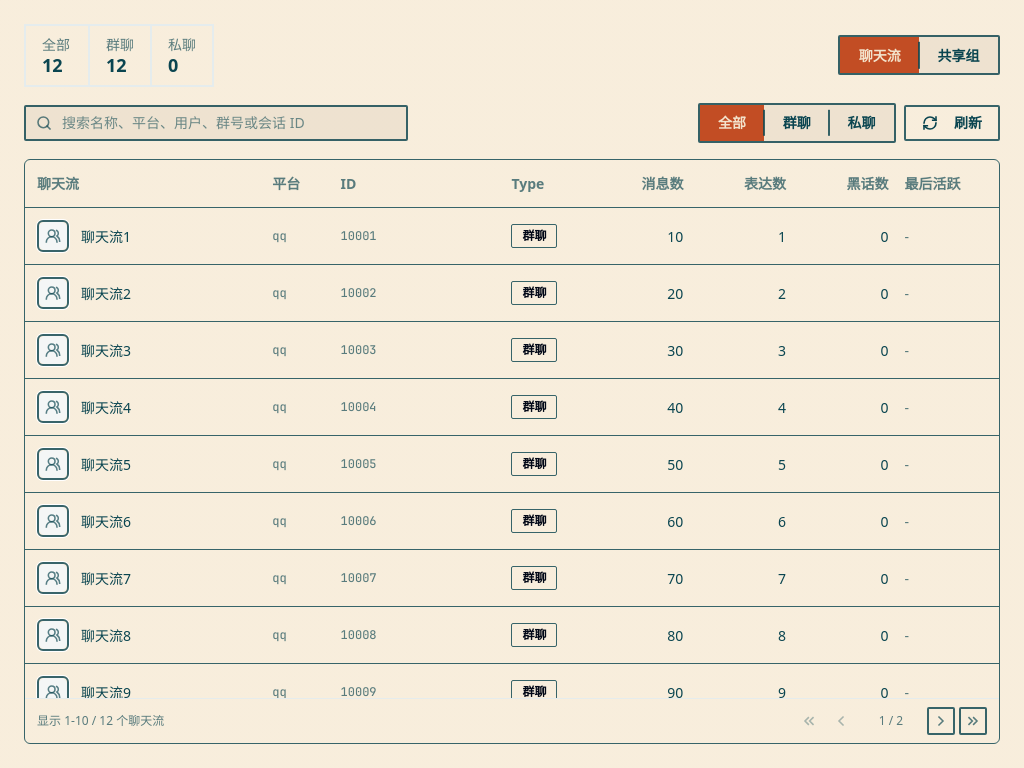
Scenario: ChatManagementPage 筛选与空态 › 筛选会把分页重置回第一页，最后一页与上一页可用
The image size is (1024, 768).
expect the text "显示 1-10 / 12 个聊天流" is shown: met, box [37, 712, 164, 730]
Click the button named "最后一页" at (973,721), box [959, 707, 987, 735]
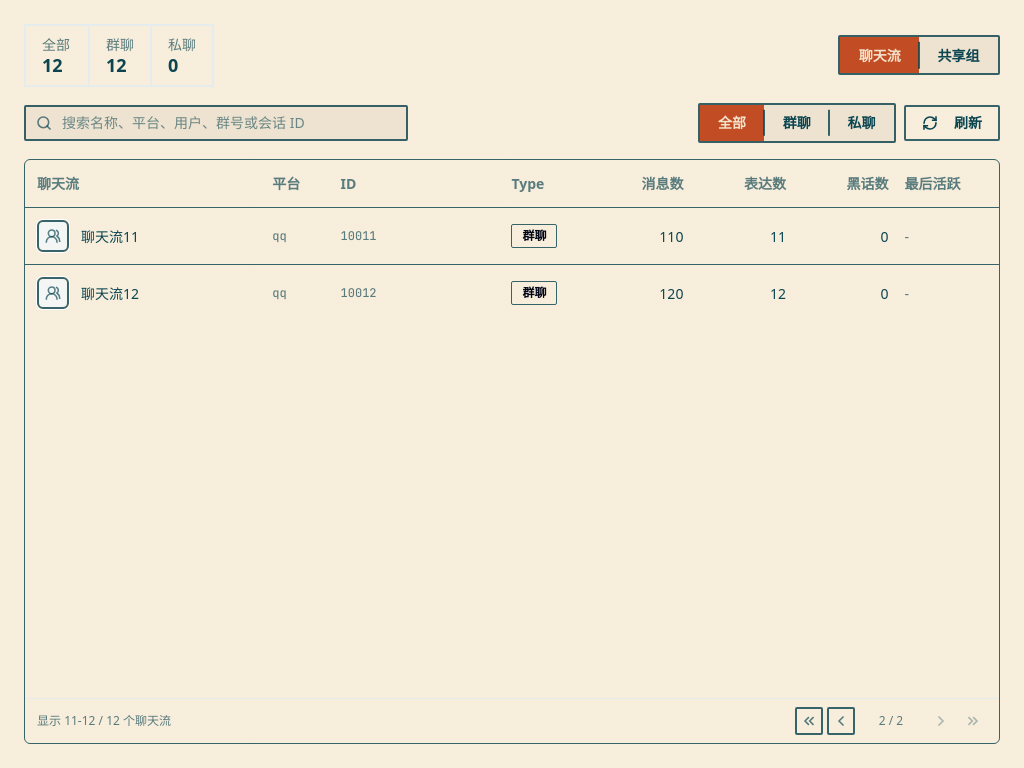
expect the text "显示 11-12 / 12 个聊天流" is shown: met, box [37, 712, 171, 730]
Click the button named "上一页" at (841,721), box [827, 707, 855, 735]
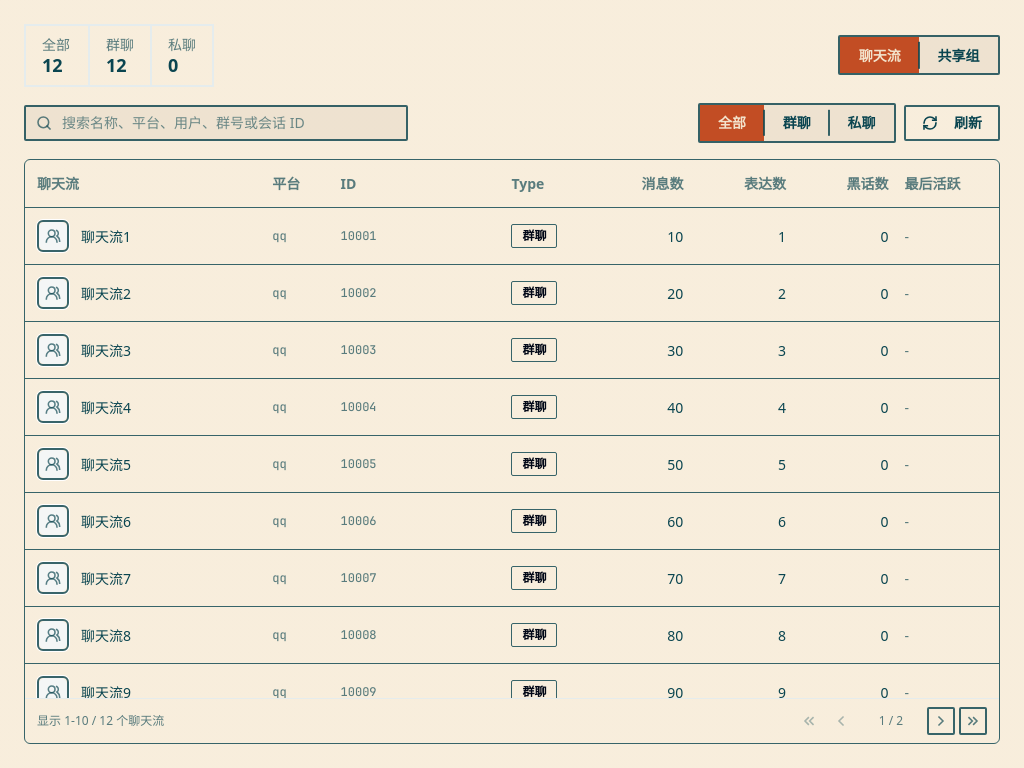
expect the text "显示 1-10 / 12 个聊天流" is shown: met, box [37, 712, 164, 730]
Click the button named "下一页" at (941,721), box [927, 707, 955, 735]
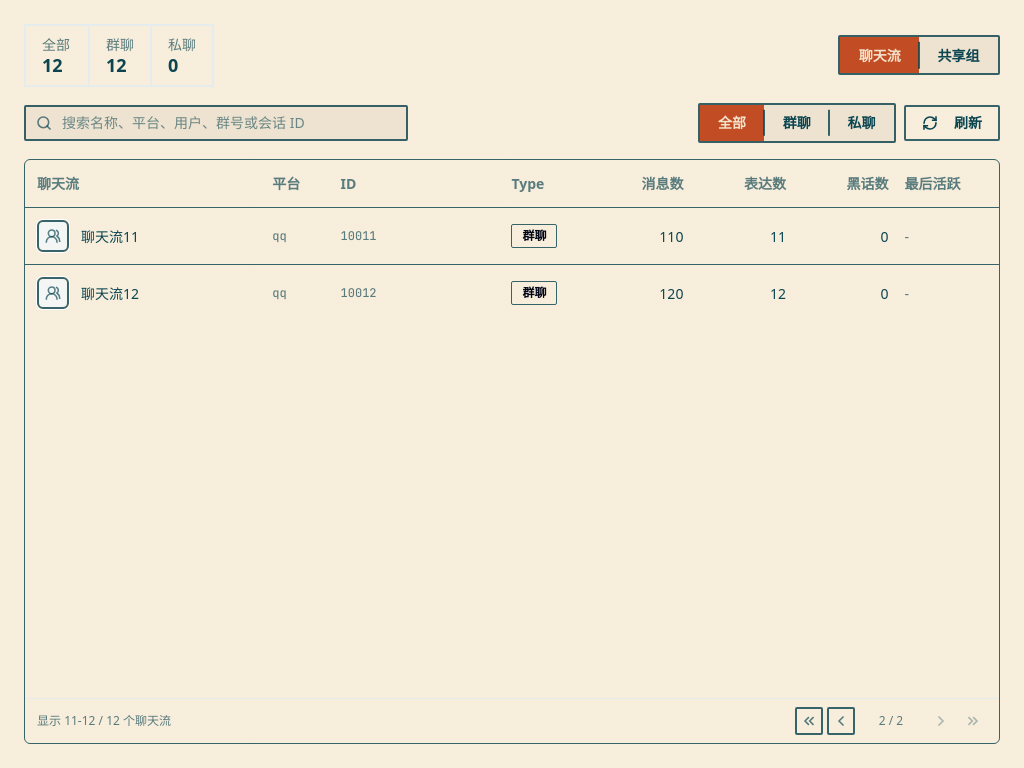
expect the text "显示 11-12 / 12 个聊天流" is shown: met, box [37, 712, 171, 730]
Type "聊天流12" into the field with placeholder "搜索名称、平台、用户、群号或会话 ID" at (216,123), box [24, 105, 408, 141]
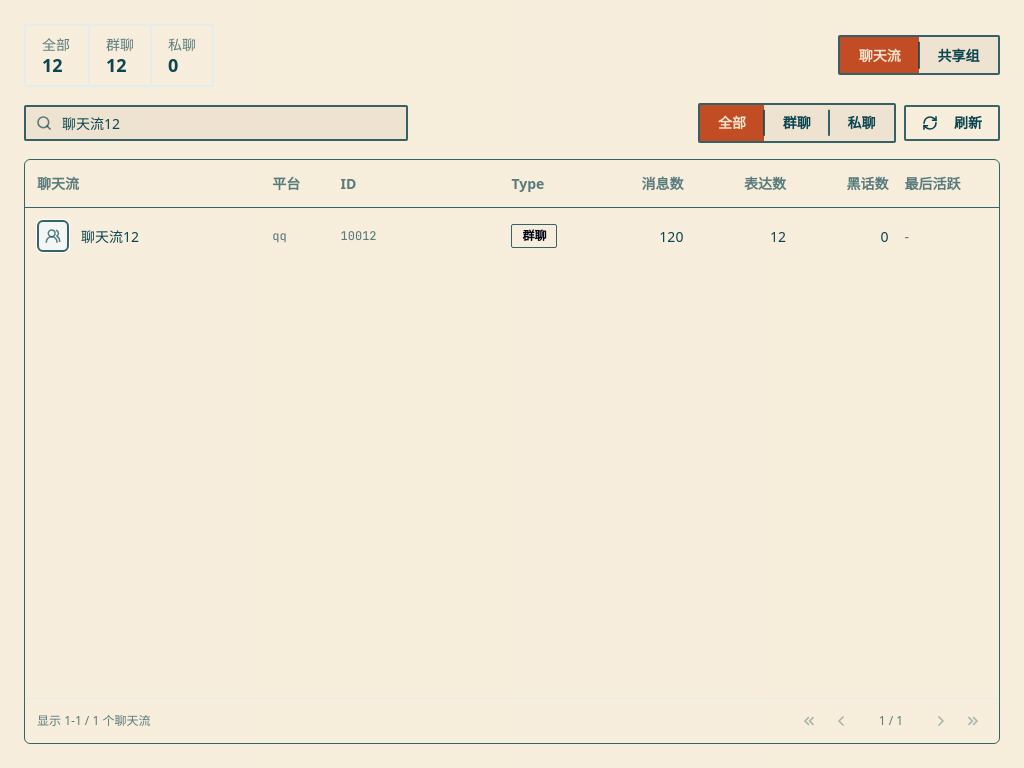
expect the text "显示 1-1 / 1 个聊天流" is shown: met, box [37, 712, 150, 730]
expect the text "1 / 1" is shown: met, box [879, 712, 903, 729]
